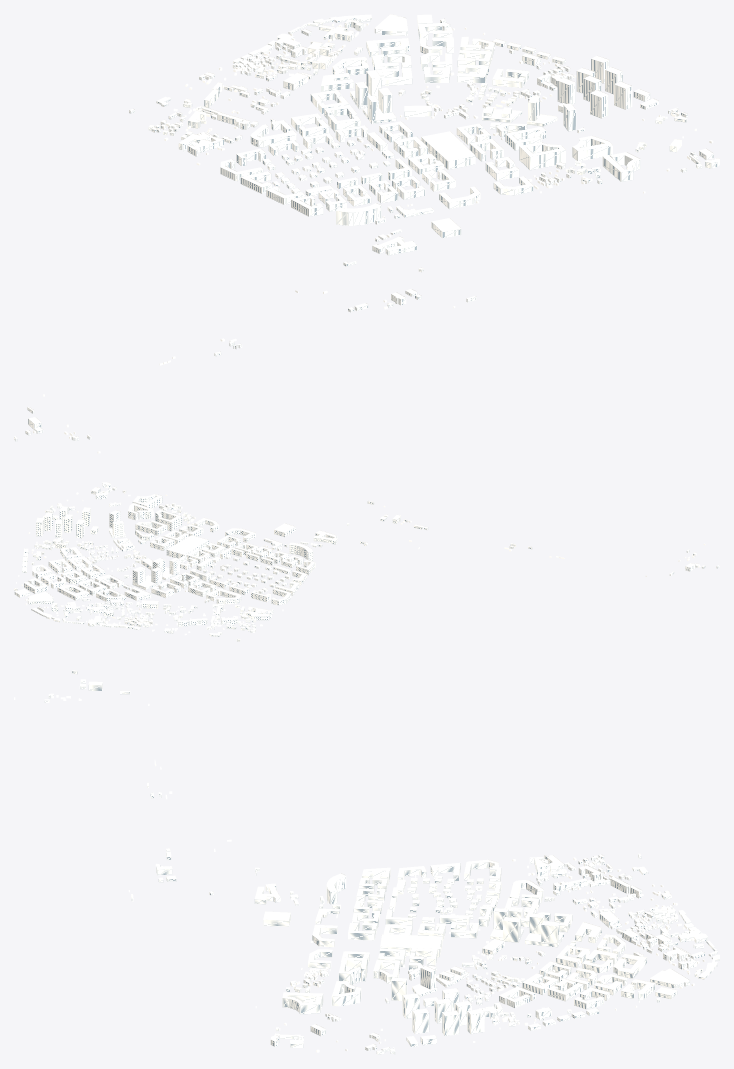
Rendered from district-whitecity.glb.
3 views of the same model, one above another, from view 1: azimuth 30°, elevation 25°; view 2: azimuth 150°, elevation 25°; view 3: azimuth 270°, elevation 25° (orthographic). The views are drawn at different scales.
Visible parts, largest first — view 1: estimated, mapped; view 2: estimated, mapped; view 3: estimated, mapped.
Boxes of the visible parts, box(x1,y1,x2,y2) form: estimated: box(14, 17, 713, 453); mapped: box(156, 14, 719, 255); estimated: box(14, 486, 719, 641); mapped: box(14, 482, 337, 636); estimated: box(14, 670, 705, 1054); mapped: box(254, 859, 719, 1047).
Size of the model in its own units: 2815 by 120 by 2181.
Materials: 3 (1 with a texture image).
